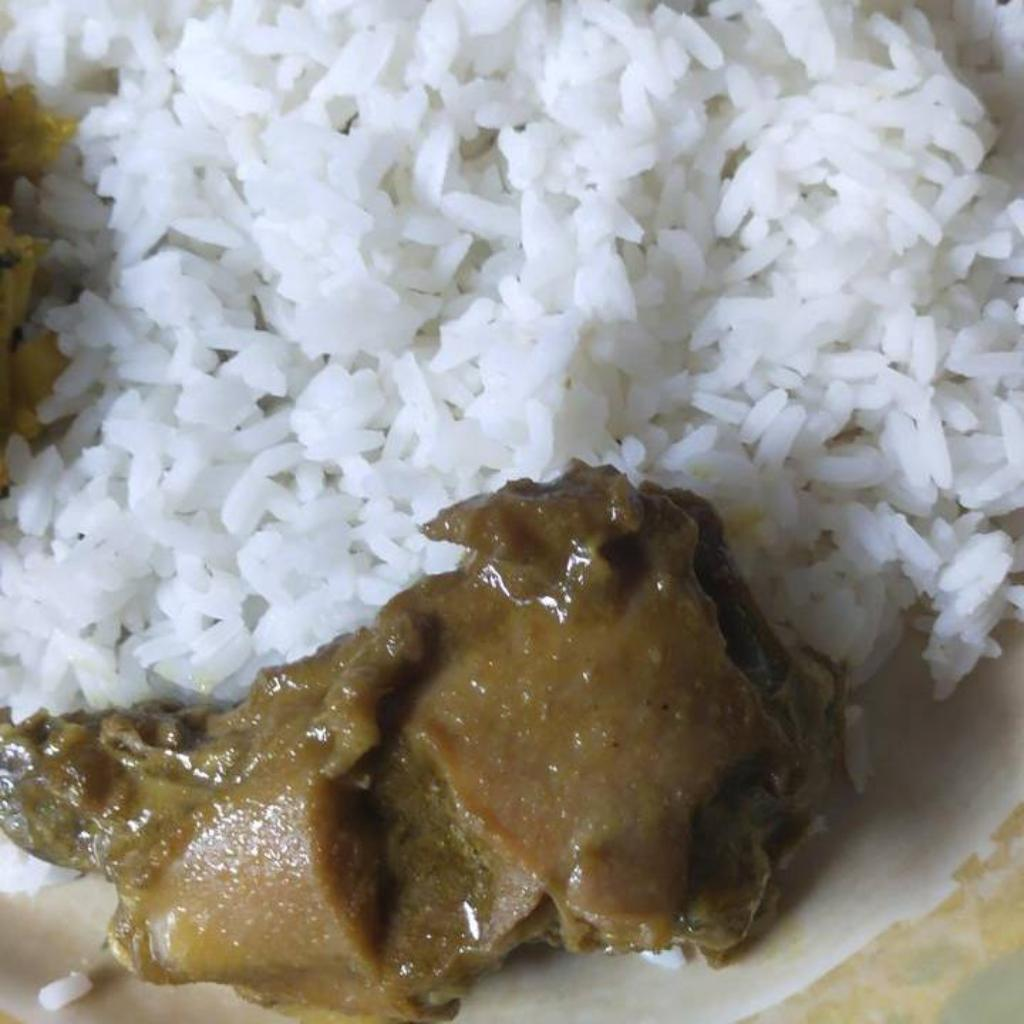chicken: (3, 460, 850, 1016)
rice: (3, 0, 1023, 706)
